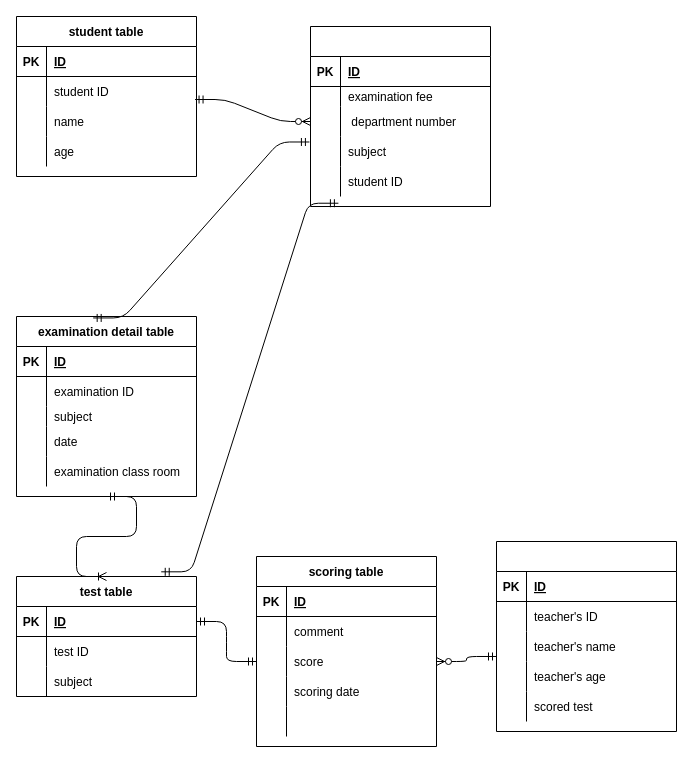
Some shapes in this 693 by 763 pixel diagram are drawn without their labels. Here are the shapes that lost their labels. From the top down, the box of each, then its label:
(310, 26, 490, 206): application table
(496, 540, 676, 732): teacher's table
